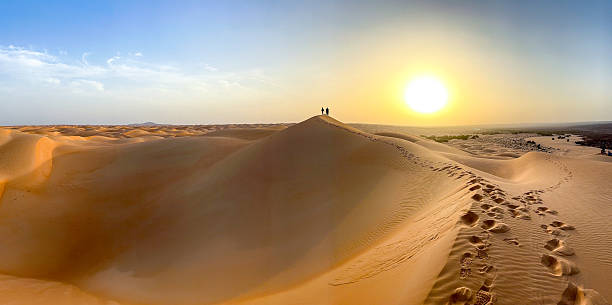human_footprint: (448, 177, 571, 304), (447, 177, 542, 304), (466, 179, 579, 282), (464, 180, 571, 234), (447, 274, 495, 304), (557, 281, 608, 304), (541, 254, 579, 275), (468, 234, 490, 263), (473, 274, 494, 304), (544, 238, 574, 255), (541, 220, 574, 235), (481, 219, 509, 232), (460, 252, 473, 278), (508, 204, 530, 219), (460, 211, 479, 226), (550, 221, 574, 230), (534, 206, 557, 215), (478, 263, 494, 273), (504, 237, 519, 245), (471, 193, 483, 200)
